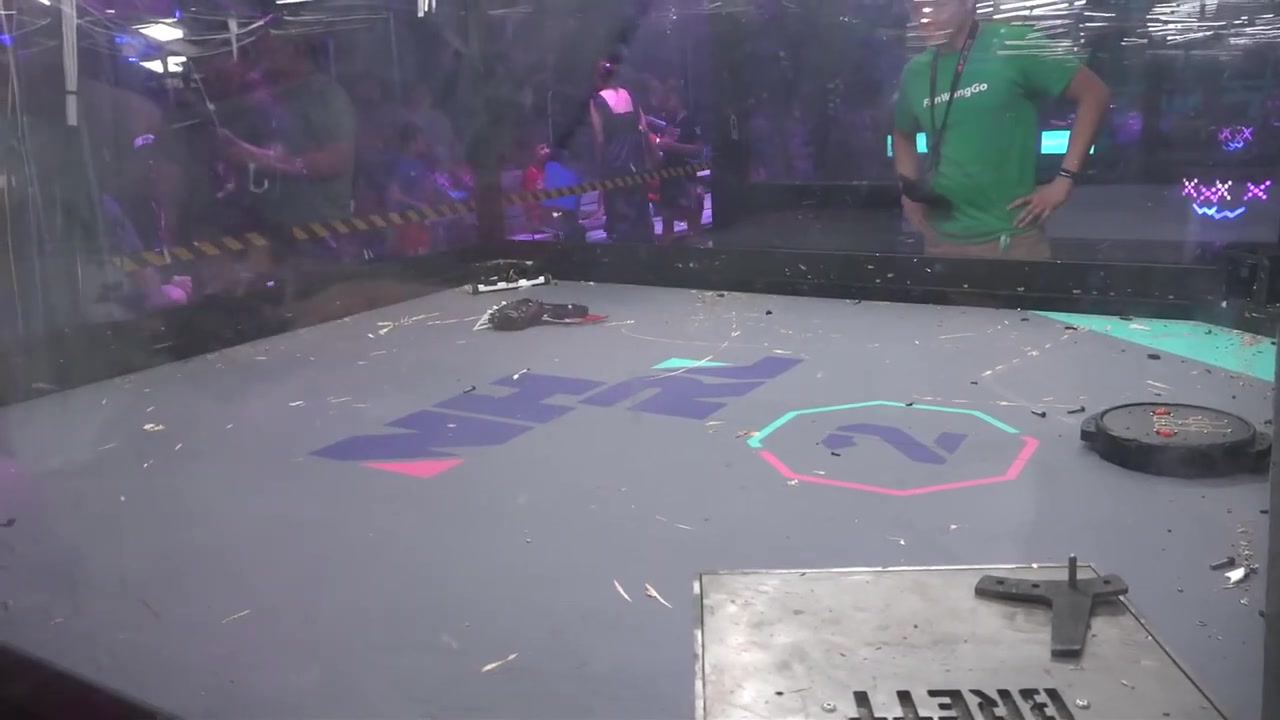combatbot: (1080, 402, 1274, 478), (472, 297, 613, 333)
housebot: (689, 561, 1234, 720)
minibot: (465, 261, 553, 292)
